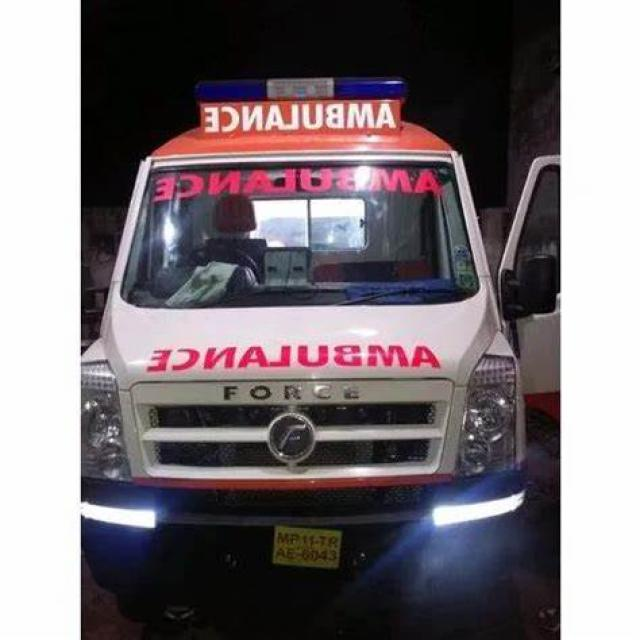ambulance: (177, 52, 403, 112)
